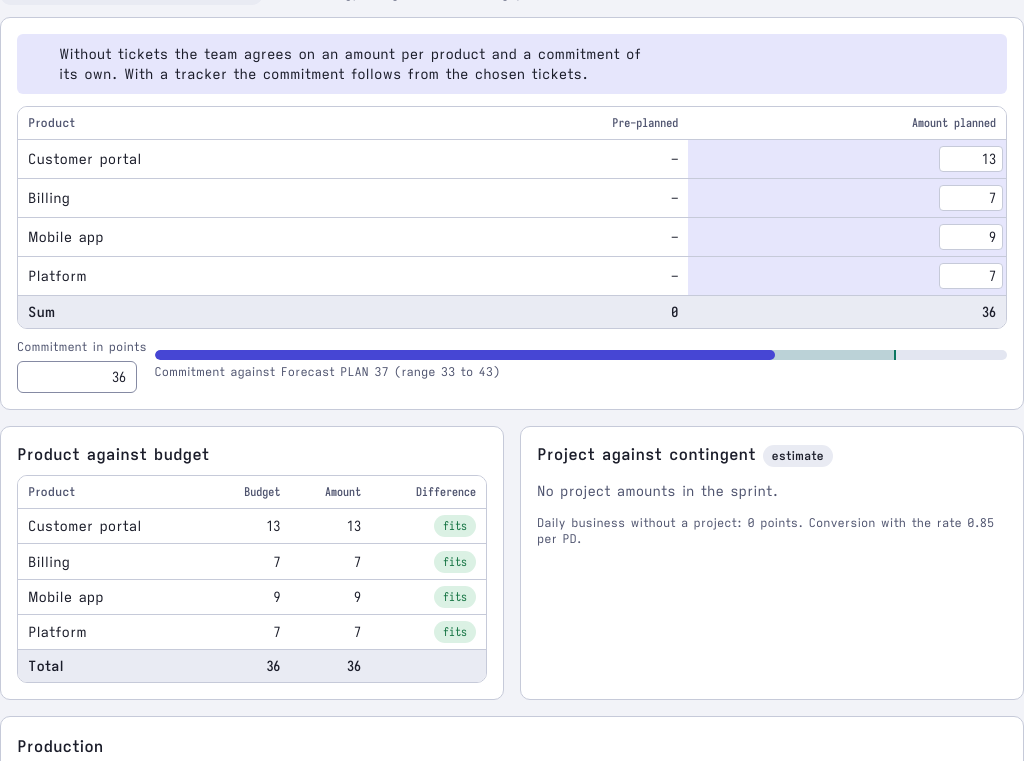
Test: Plan page without tickets › an empty commitment goes back to the sum of the amounts
The width and height of the screenshot is (1024, 761).
(page scrolled)
Replace the text in the field with id "commit" with "99" at coordinates (77, 377), box [17,361,137,393]
(page scrolled)
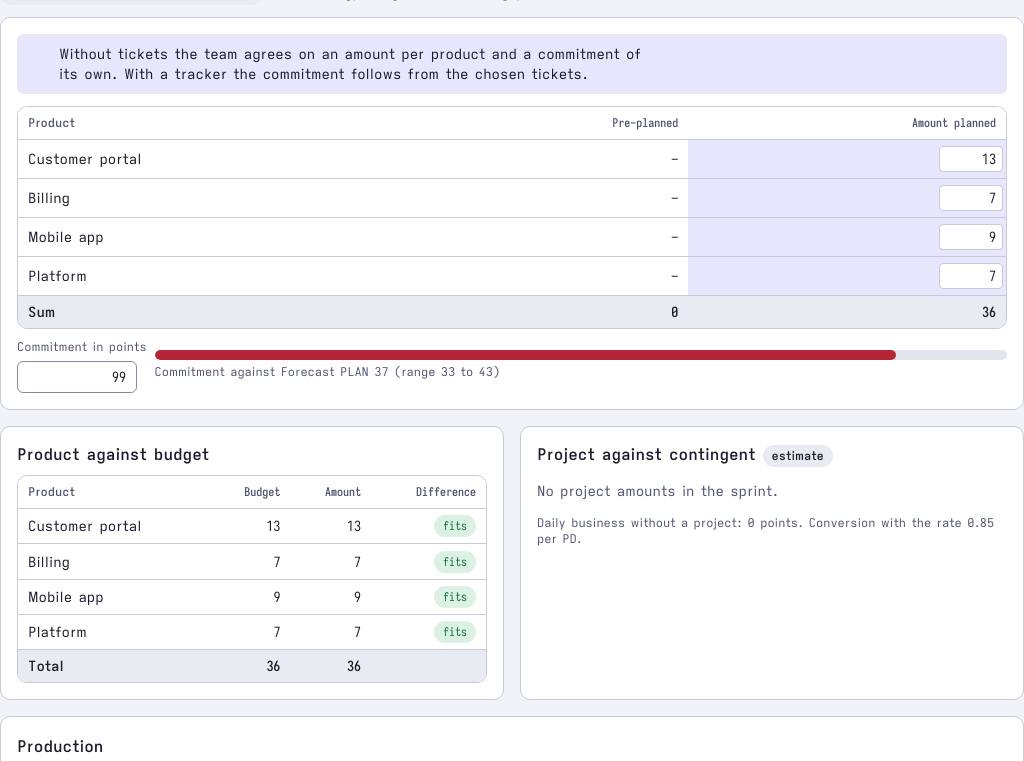
Clear the field with id "commit" at coordinates (77, 377), box [17,361,137,393]
(page scrolled)
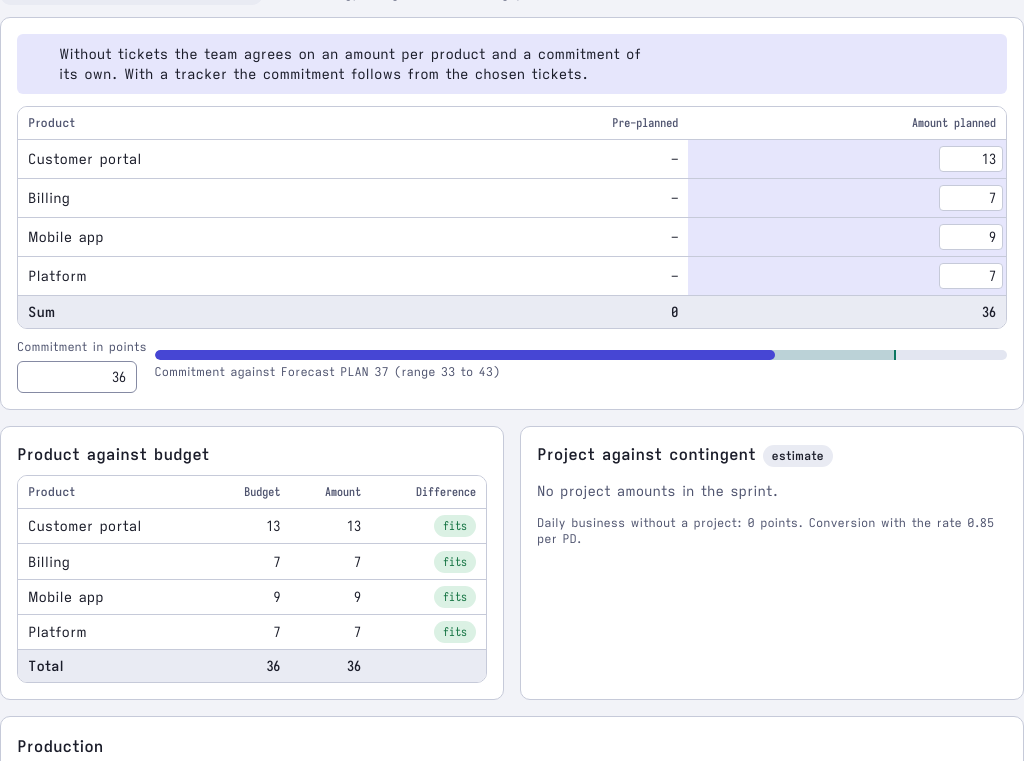
Expected: the field with id "commit" holds "36", [17,361,137,393]
